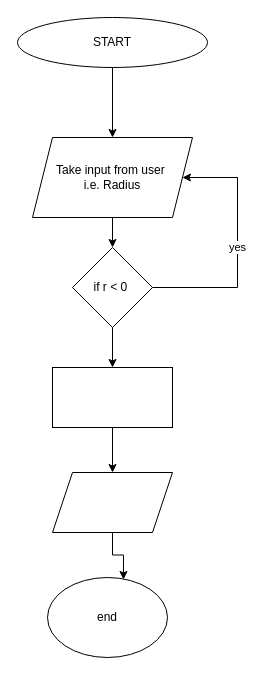
This 263x675 diagram has some shape labels left out. The shapes that lost their labels are listed below. From the top down, each one's centre as x and y in pixels, then its label:
At point 112,397: "area = pi * radius * radius".
At point 112,502: "output the area".
